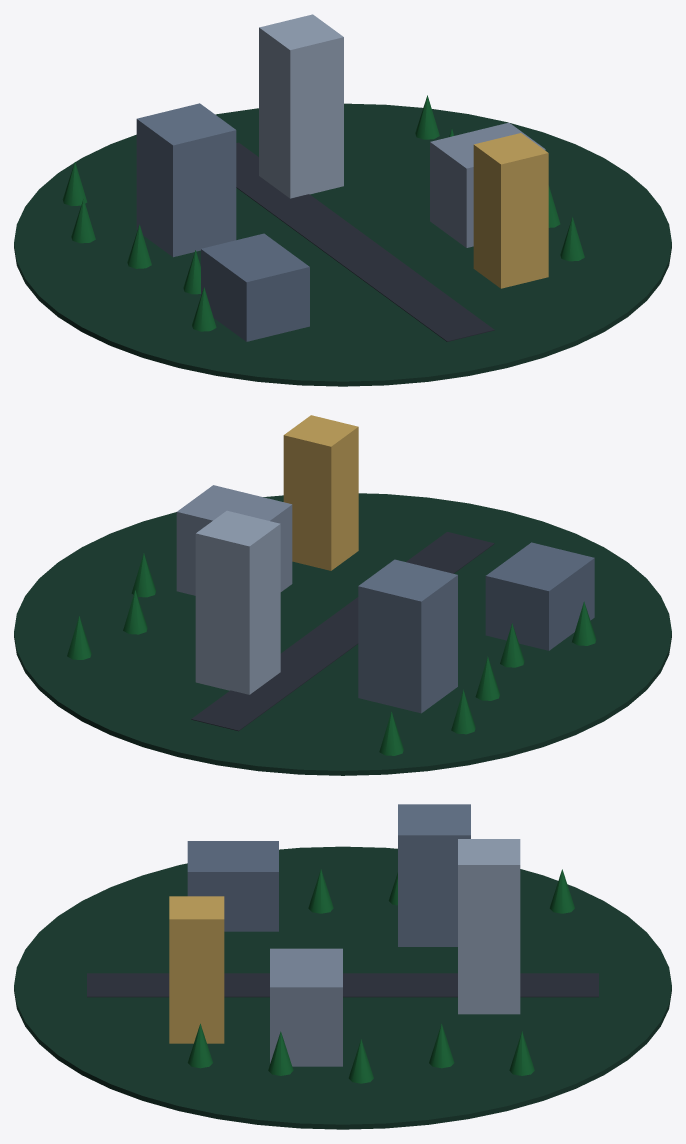
3 renders of one model, top to bottom at view 1: azimuth 30°, elevation 25°; view 2: azimuth 150°, elevation 25°; view 3: azimuth 270°, elevation 25°, orthographic.
Bounding box in the file's own units: 36 × 12 × 36.
